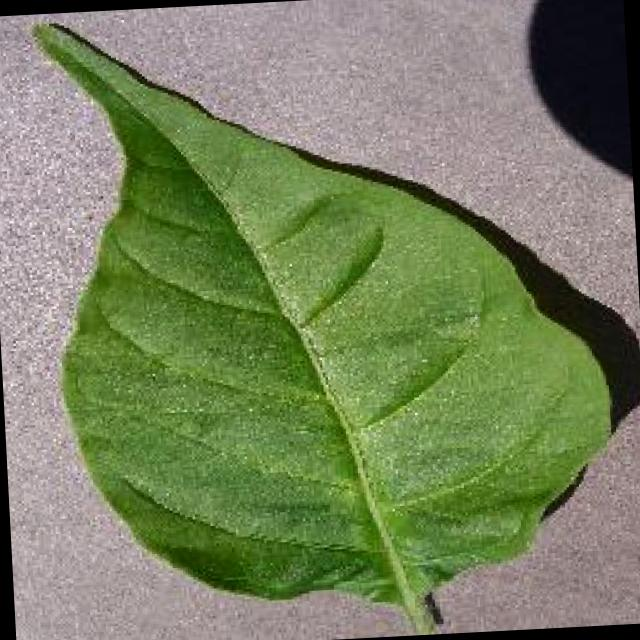Leaf: (89, 144, 550, 570)
